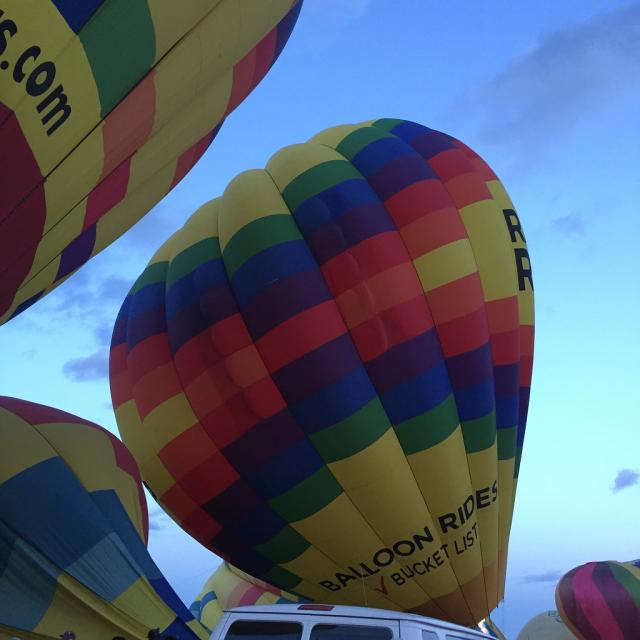balloon: (109, 116, 537, 632)
